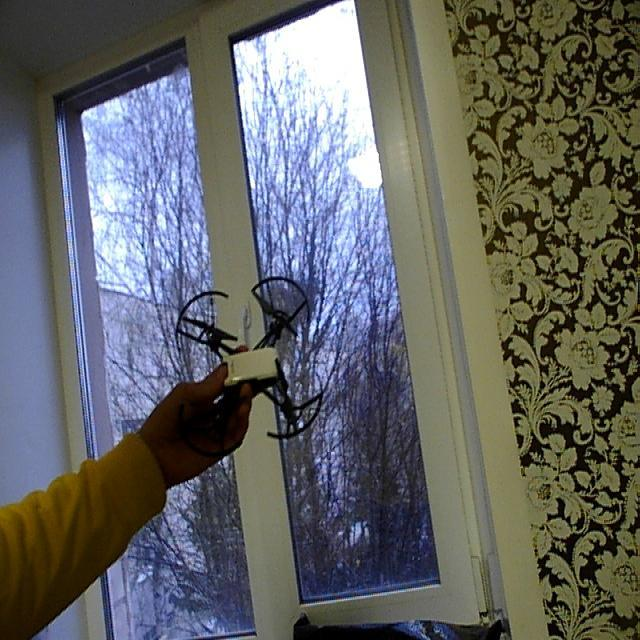drone: (172, 278, 331, 442)
